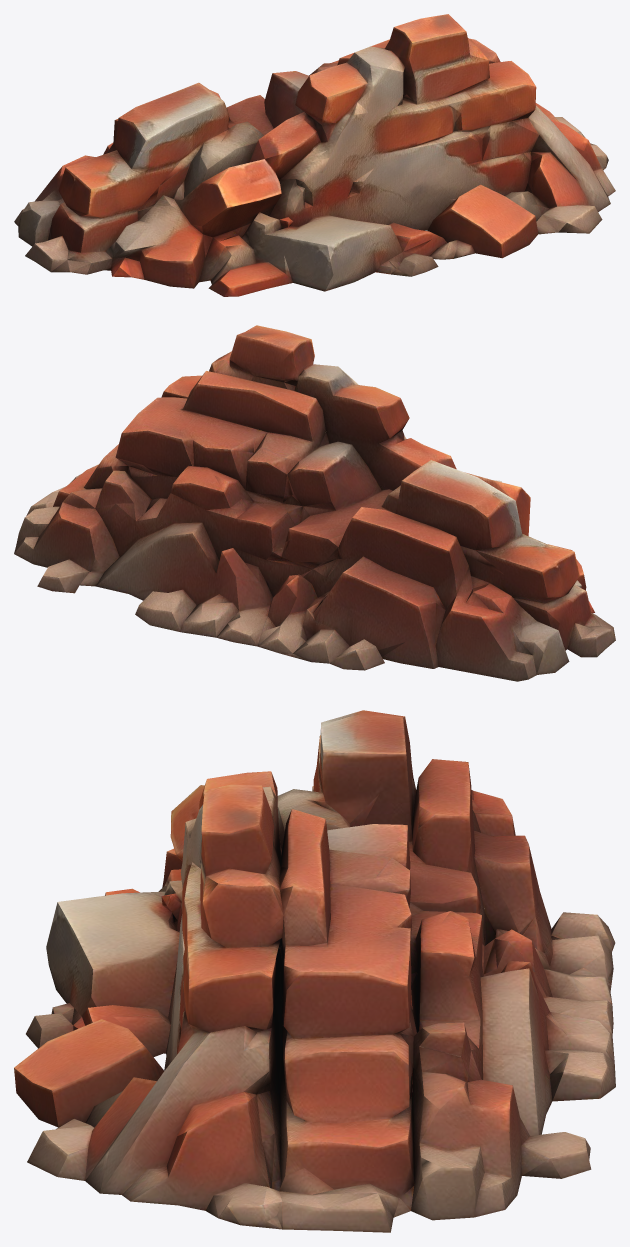
File: 01-brick-rubble.glb
3 renders of one model, top to bottom at view 1: azimuth 30°, elevation 25°; view 2: azimuth 150°, elevation 25°; view 3: azimuth 270°, elevation 25°, orthographic. The views are drawn at different scales.
Visible parts, largest first — view 1: SM_BrickRubble; view 2: SM_BrickRubble; view 3: SM_BrickRubble.
Part boxes in pixels (x1=…): SM_BrickRubble: x1=14, y1=14, x2=615, y2=296; SM_BrickRubble: x1=14, y1=325, x2=615, y2=681; SM_BrickRubble: x1=14, y1=710, x2=615, y2=1232.
Bounding box in the file's own units: 1.79 × 0.5825 × 1.1.
Materials: 1 (1 with a texture image).
